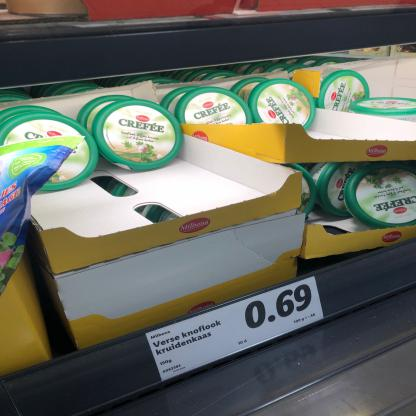prtg: (146, 277, 324, 383)
